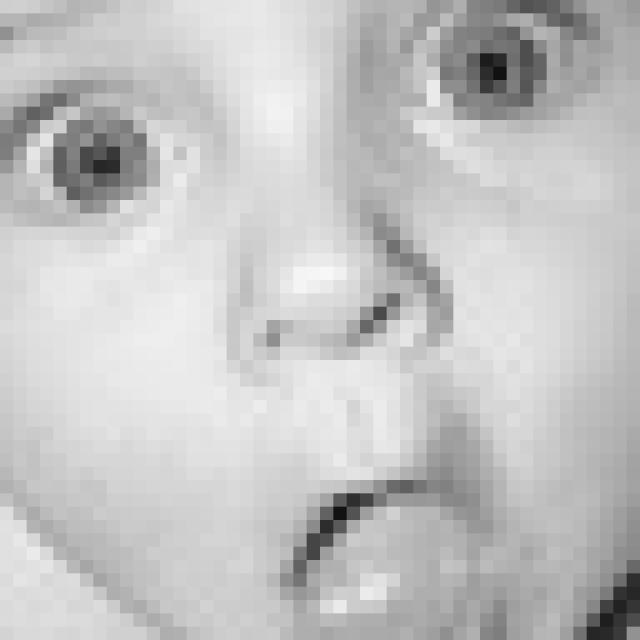surprise: (0, 5, 608, 640)
